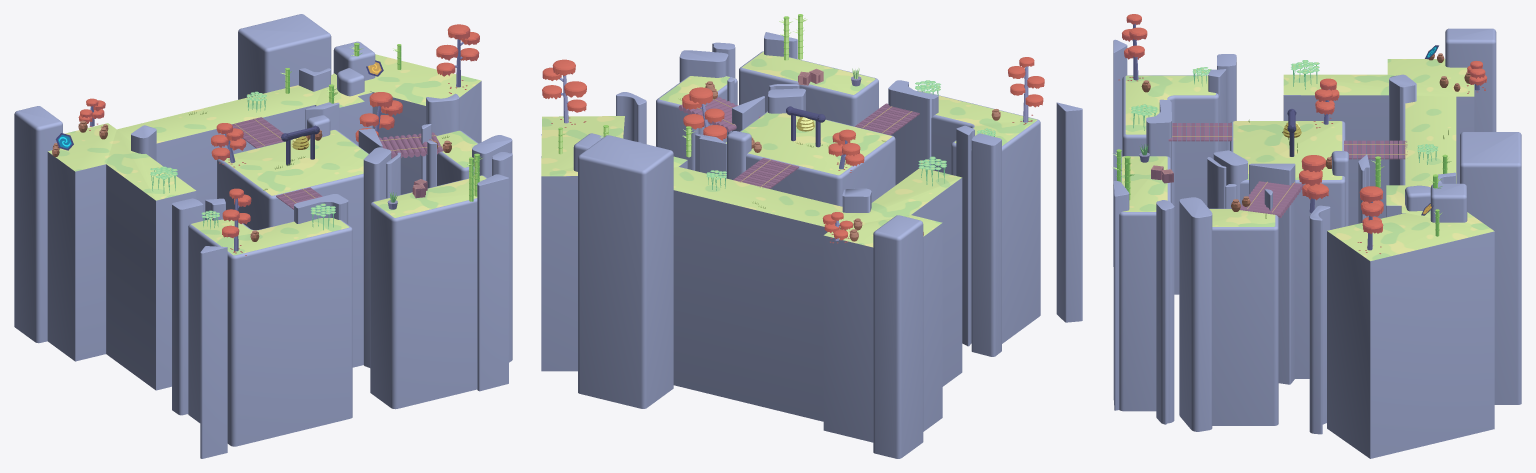
Rendered from plaza.glb.
3 renders of one model, left to right at view 1: azimuth 30°, elevation 25°; view 2: azimuth 150°, elevation 25°; view 3: azimuth 270°, elevation 25°, orthographic. The views are drawn at different scales.
Visible parts, largest first — view 1: ISLAND_0, ISLAND_3, ISLAND_4, ISLAND_1, BLOCK_18, BLOCK_16, BLOCK_17, BLOCK_19, BLOCK_09, BLOCK_08, ISLAND_2, BLOCK_14 (+14 smaller); view 2: ISLAND_0, BLOCK_19, BLOCK_18, ISLAND_3, ISLAND_1, BLOCK_09, BLOCK_17, ISLAND_4, BLOCK_15, ISLAND_2, BLOCK_11, MAPLE_5_canopy (+13 smaller); view 3: ISLAND_0, ISLAND_2, BLOCK_19, ISLAND_4, ISLAND_1, ISLAND_3, BLOCK_13, BLOCK_14, BLOCK_05, BLOCK_06, BLOCK_18, BLOCK_02 (+15 smaller).
Part boxes in pixels (x1=…): ISLAND_0: x1=47, y1=54, x2=481, y2=390; ISLAND_3: x1=188, y1=218, x2=352, y2=446; ISLAND_4: x1=370, y1=175, x2=487, y2=409; ISLAND_1: x1=217, y1=129, x2=368, y2=367; BLOCK_18: x1=14, y1=106, x2=62, y2=343; BLOCK_16: x1=477, y1=174, x2=508, y2=391; BLOCK_17: x1=200, y1=246, x2=227, y2=458; BLOCK_19: x1=238, y1=14, x2=331, y2=99; BLOCK_09: x1=172, y1=198, x2=203, y2=415; BLOCK_08: x1=363, y1=147, x2=391, y2=367; ISLAND_2: x1=426, y1=130, x2=478, y2=185; BLOCK_14: x1=492, y1=152, x2=512, y2=362; ISLAND_0: x1=541, y1=116, x2=962, y2=442; BLOCK_19: x1=578, y1=135, x2=673, y2=408; BLOCK_18: x1=873, y1=215, x2=923, y2=458; ISLAND_3: x1=918, y1=90, x2=1040, y2=343; ISLAND_1: x1=725, y1=111, x2=895, y2=206; BLOCK_09: x1=971, y1=133, x2=1001, y2=356; BLOCK_17: x1=1056, y1=102, x2=1082, y2=322; ISLAND_4: x1=739, y1=51, x2=878, y2=126; BLOCK_15: x1=888, y1=80, x2=938, y2=184; ISLAND_2: x1=656, y1=76, x2=737, y2=170; BLOCK_11: x1=956, y1=125, x2=974, y2=346; MAPLE_5_canopy: x1=682, y1=87, x2=726, y2=140; ISLAND_0: x1=1283, y1=59, x2=1494, y2=458; ISLAND_2: x1=1209, y1=208, x2=1278, y2=425; BLOCK_19: x1=1460, y1=132, x2=1521, y2=404; ISLAND_4: x1=1119, y1=156, x2=1170, y2=411; ISLAND_1: x1=1230, y1=121, x2=1345, y2=378; ISLAND_3: x1=1122, y1=75, x2=1219, y2=294; BLOCK_13: x1=1179, y1=197, x2=1212, y2=431; BLOCK_14: x1=1156, y1=200, x2=1174, y2=424; BLOCK_05: x1=1309, y1=205, x2=1330, y2=434; BLOCK_06: x1=1249, y1=163, x2=1295, y2=384; BLOCK_18: x1=1445, y1=28, x2=1496, y2=131; BLOCK_02: x1=1389, y1=74, x2=1416, y2=185.
Size of the model in its own units: 67.53 by 39.63 by 56.44.
Materials: 5 (3 with a texture image).
